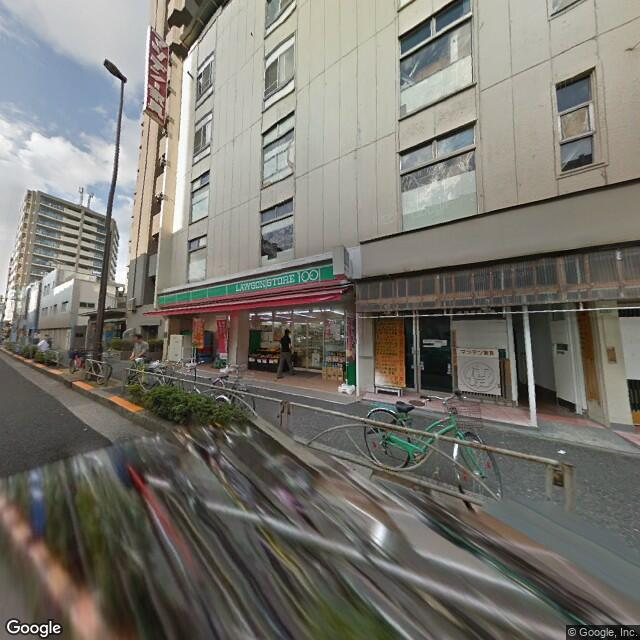lawson: (157, 253, 346, 310)
